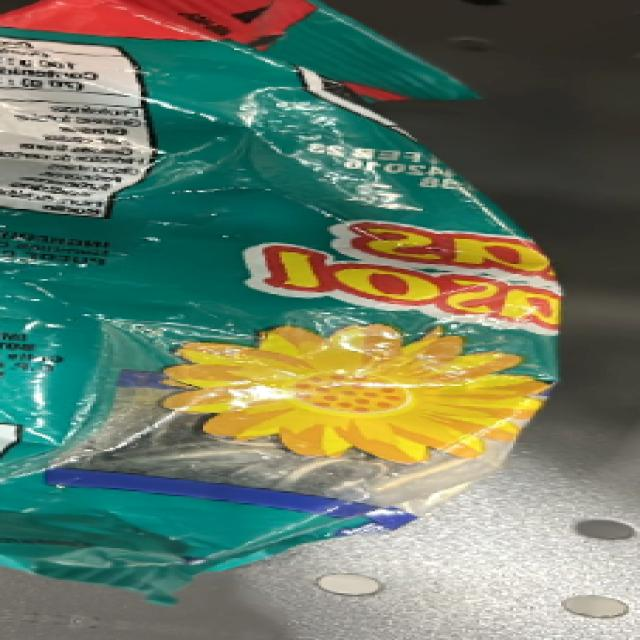productoAtras: (155, 212, 573, 529)
